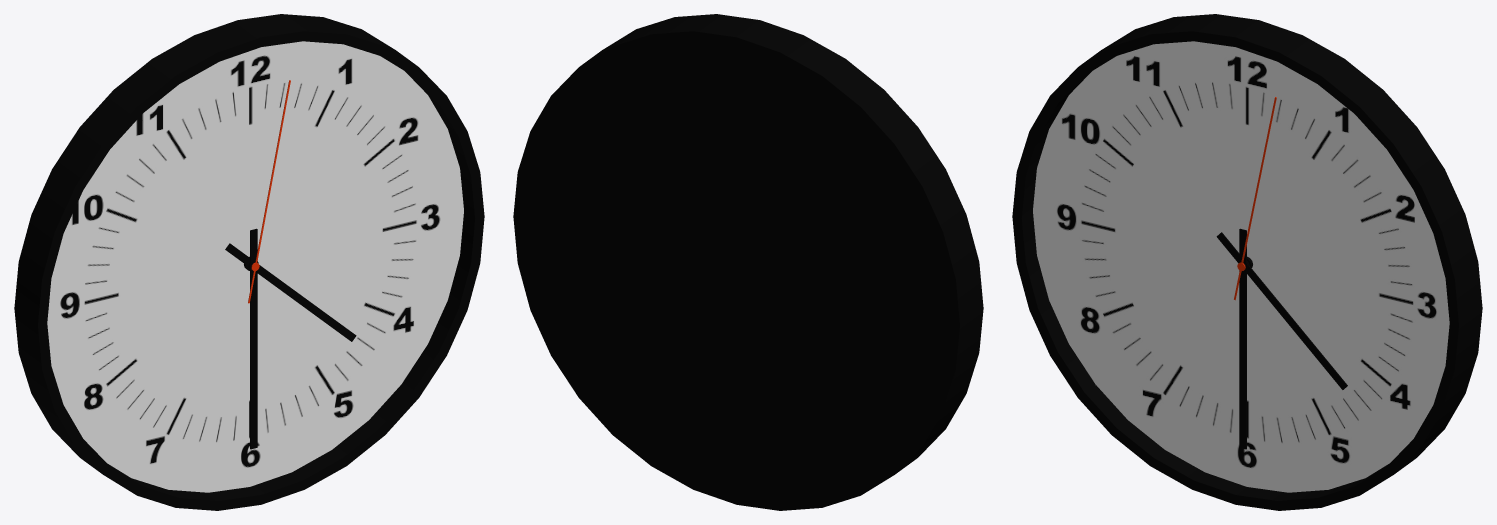
The model's file is Wall_Clock.gltf.
The picture shows the model from 3 angles, left to right: view 1: azimuth 30°, elevation 25°; view 2: azimuth 150°, elevation 25°; view 3: azimuth 330°, elevation 25°; orthographic projection.
Visible parts, largest first — view 1: Clock, Minutes, Hours, Seconds; view 2: Clock; view 3: Clock, Minutes, Hours, Seconds.
Part boxes in pixels (x1,y1,x2,y2): Clock: (14, 14, 484, 510); Minutes: (248, 228, 258, 449); Hours: (225, 243, 356, 341); Seconds: (248, 80, 290, 303); Clock: (513, 14, 983, 510); Clock: (1012, 14, 1482, 510); Minutes: (1238, 228, 1248, 449); Hours: (1216, 232, 1347, 389); Seconds: (1234, 97, 1276, 300).
Bounding box in the file's own units: 0.35 × 0.35 × 0.0319.
2 materials, 2 textured.
